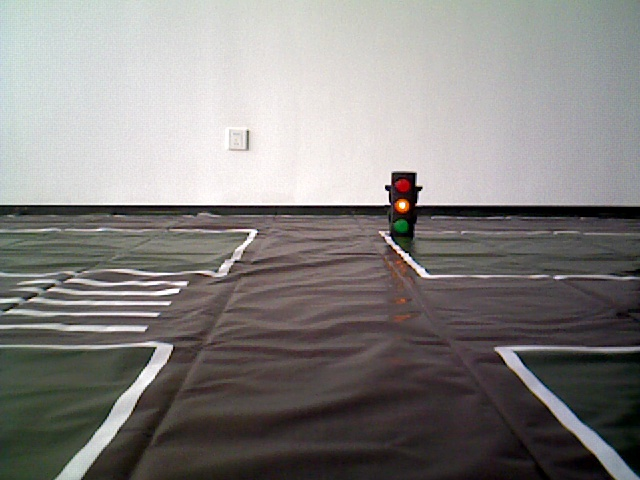yellow: (386, 173, 420, 238)
